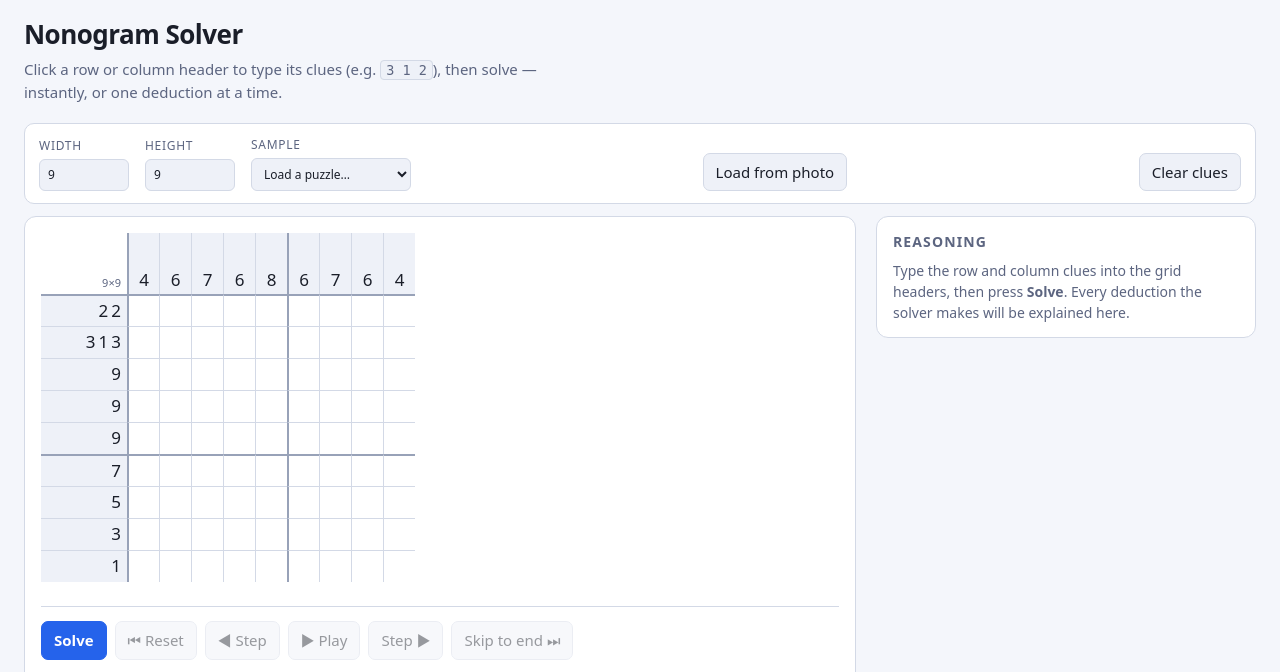
Test case: the page › solves the sample and draws the picture
Step 1. Click the button "Solve" → (74, 640), box [41,621,106,660]
(page scrolled)
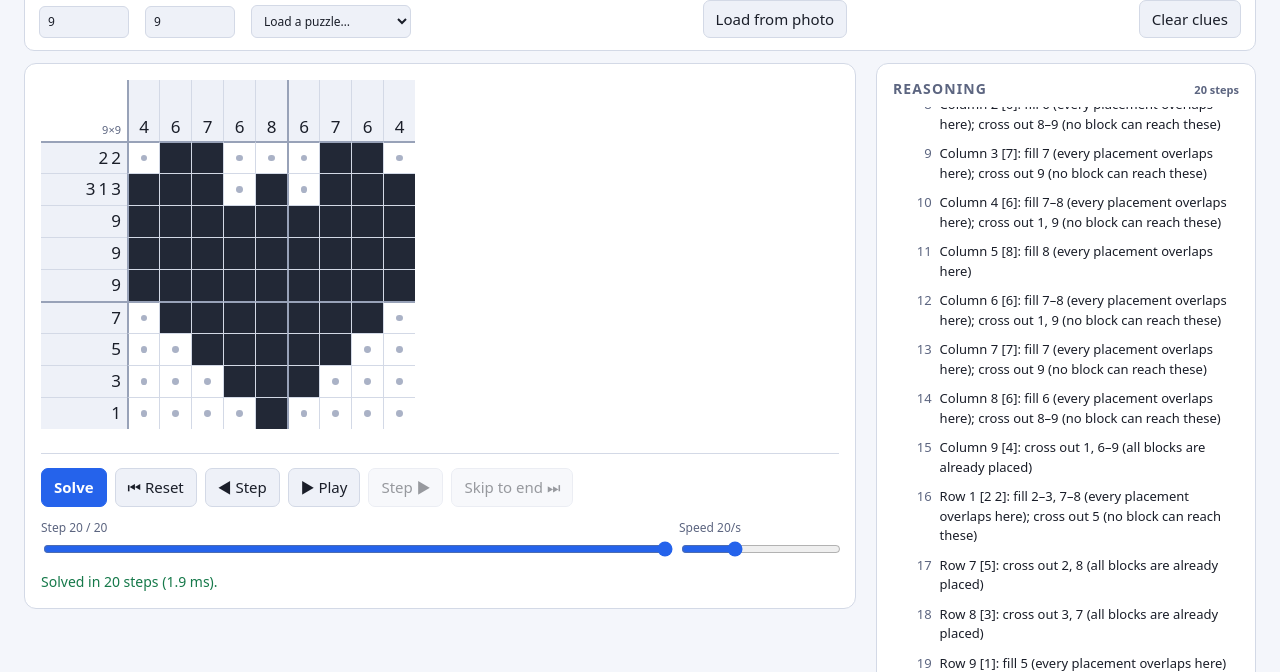
Check: the text "Solved in 20 steps (1.9 ms)." is shown, box [41,572,218,590]
